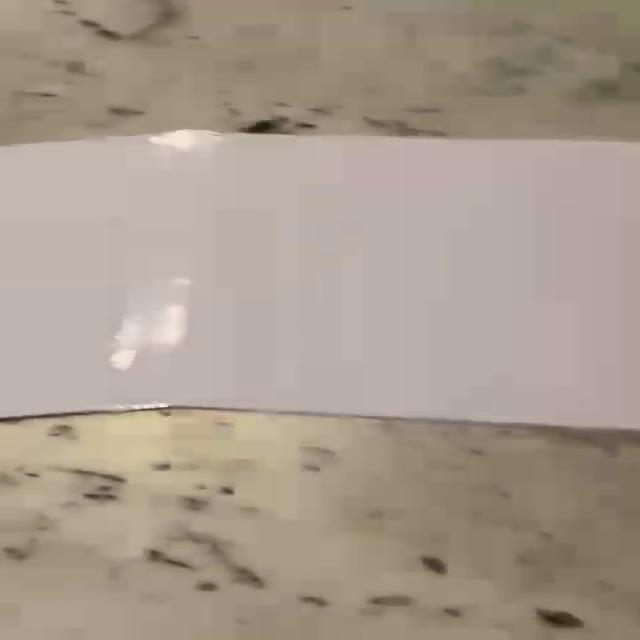road: (1, 130, 637, 428)
